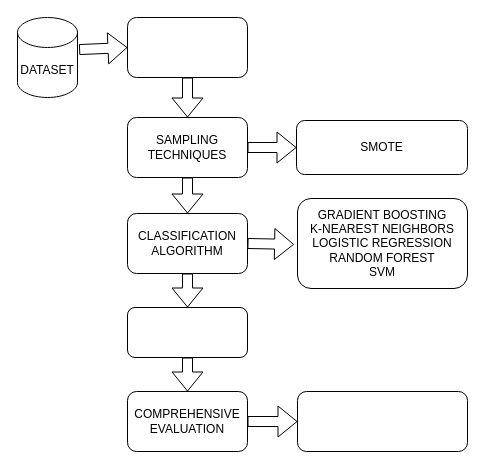
Some shapes in this 485 by 469 pixel diagram are drawn without their labels. Each missing label, with the centre of its shape:
"DATA PROCESSING" goes at (187,47).
"F1-SCORE ACCURACY" goes at (382,421).
"PREDICTION" goes at (187,332).
